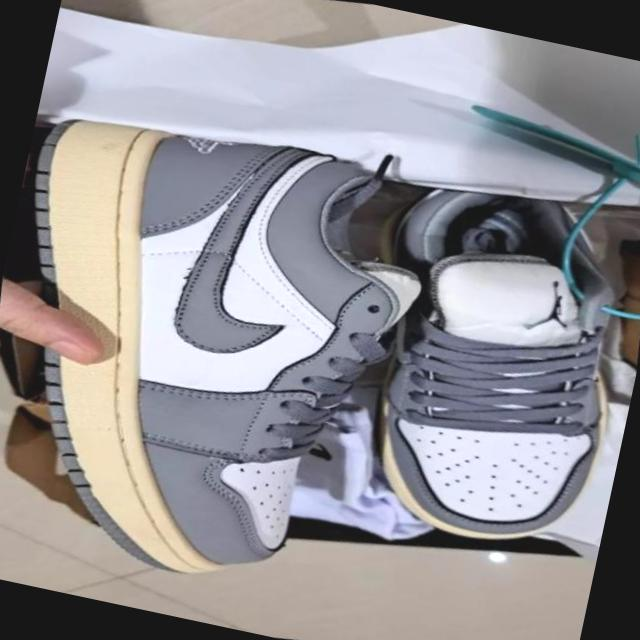nike_fake_jordan: (0, 69, 491, 640), (318, 148, 640, 578)
